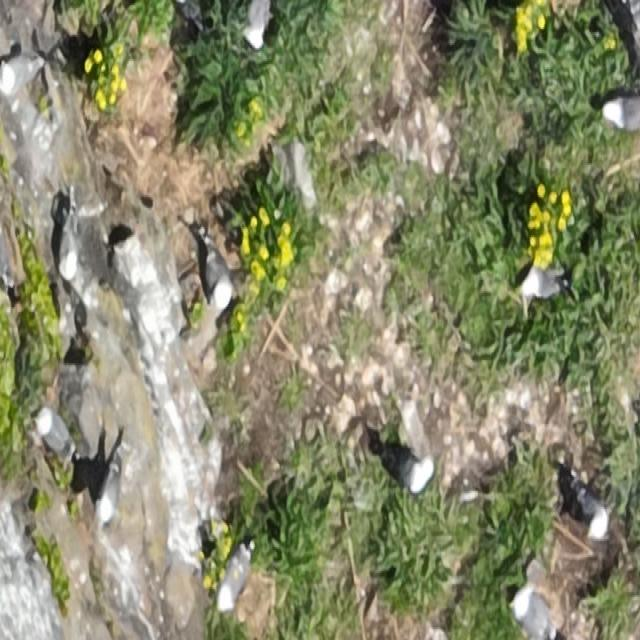umineko: (511, 586, 556, 640), (218, 543, 252, 614), (202, 235, 233, 305), (1, 49, 49, 94), (99, 446, 124, 526), (58, 202, 80, 278), (522, 266, 568, 300), (399, 453, 438, 492), (581, 490, 610, 536), (40, 415, 70, 455), (604, 100, 640, 128), (246, 2, 269, 45), (178, 1, 202, 27)
